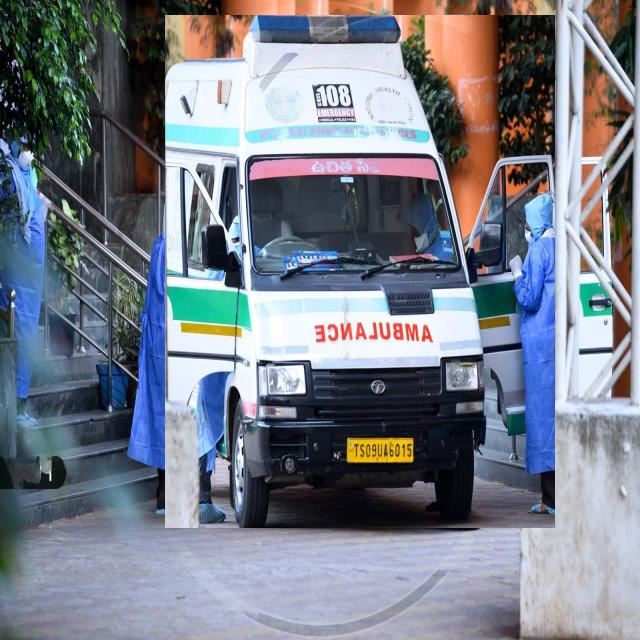emergency: (165, 15, 555, 528)
